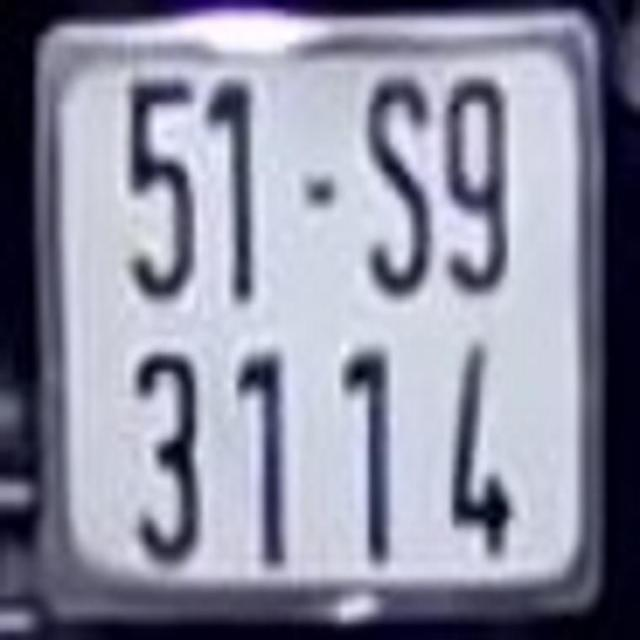1: (240, 345, 295, 569), (337, 348, 395, 559), (209, 80, 257, 298)
3: (134, 350, 202, 566)
4: (443, 344, 518, 549)
5: (130, 80, 200, 292)
9: (445, 77, 512, 290)
S: (365, 81, 438, 288)
